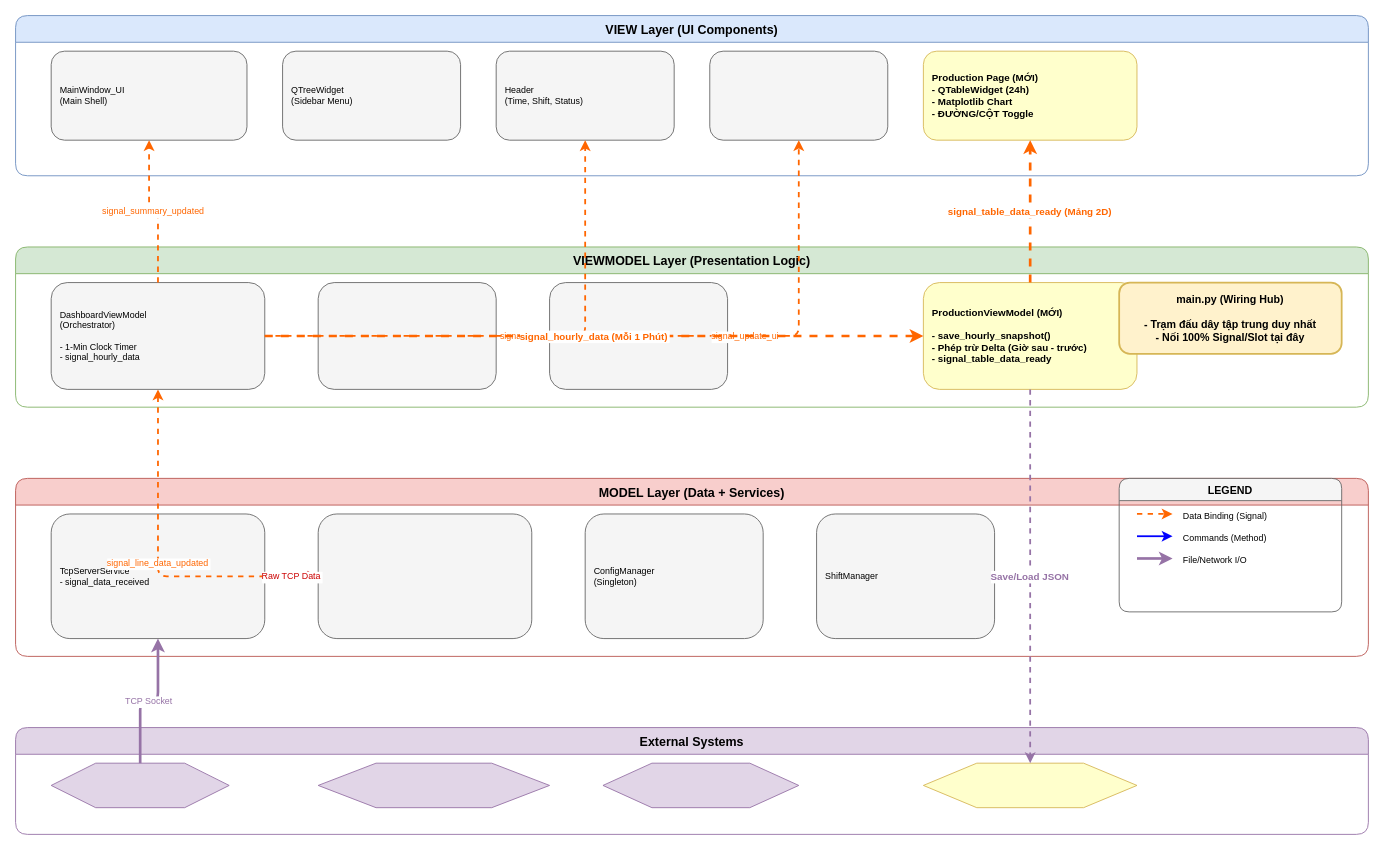
Image size: 1384x850. Some labels were removed from this diagram. Each missing label, with the centre of its shape:
"DataProcessorService - Parse CSV - Save JSON logs" belongs at point (424, 576).
"Dobot Robotic Arms (TCP Clients)" belongs at point (139, 785).
"JSON Log Files (Raw Data)" belongs at point (700, 785).
"Line Cards (Grid of Widgets)" belongs at point (798, 95).
"LineViewModel - tick_1_second() - Status/Count/Rate" belongs at point (406, 335).
"Production JSON (MỚI) (Hourly Snapshots)" belongs at point (1029, 785).
"SQL Server REST API" belongs at point (433, 785).
"SummaryViewModel (Aggregated Data)" belongs at point (638, 335).
